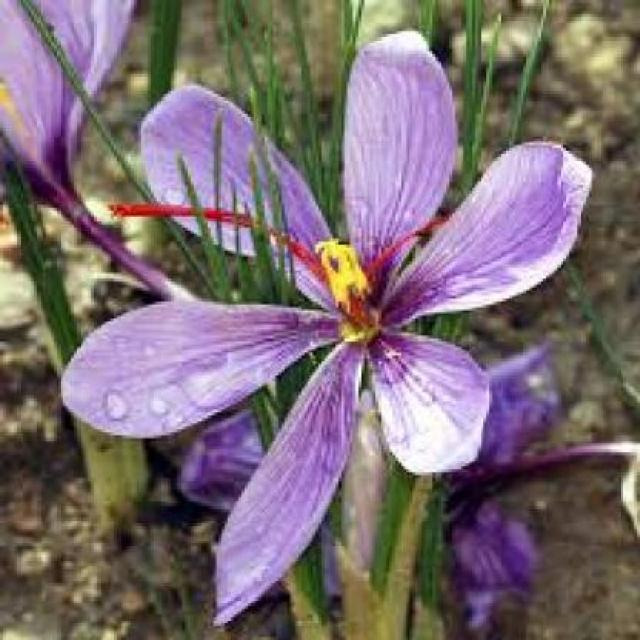saffron open: (61, 32, 591, 623), (1, 0, 181, 298), (36, 0, 135, 93)
